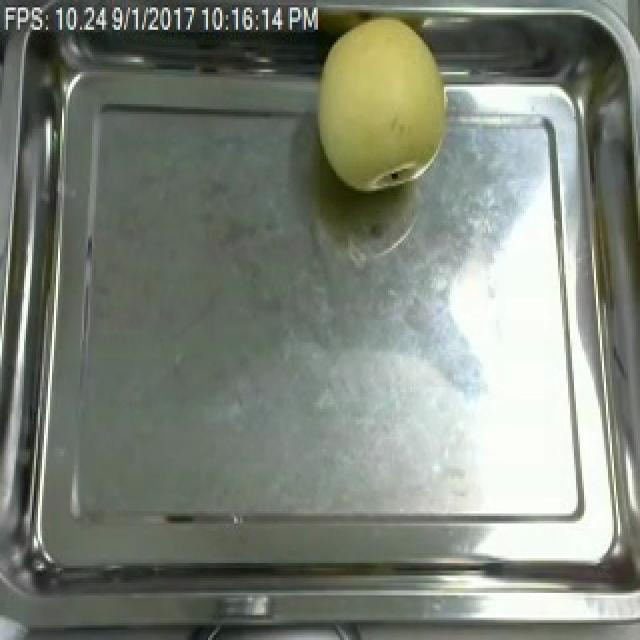Fruit: (304, 10, 458, 201)
